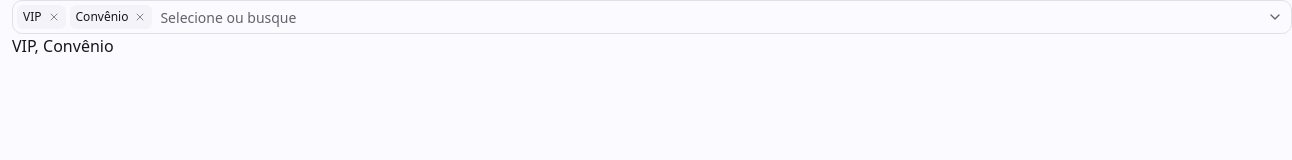
SearchSelect › shows each choice with a named remove button that takes it out
This screenshot has width=1292, height=160.
Click the button named "Remover VIP": coordinates (54, 17) [42,5,66,29]
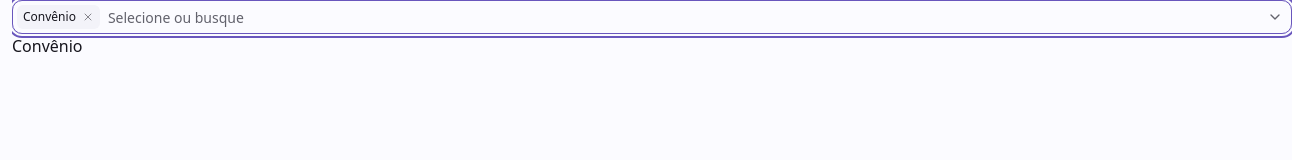
Now the text named "escolhidas" reads "Convênio", box [12,35,82,57]
